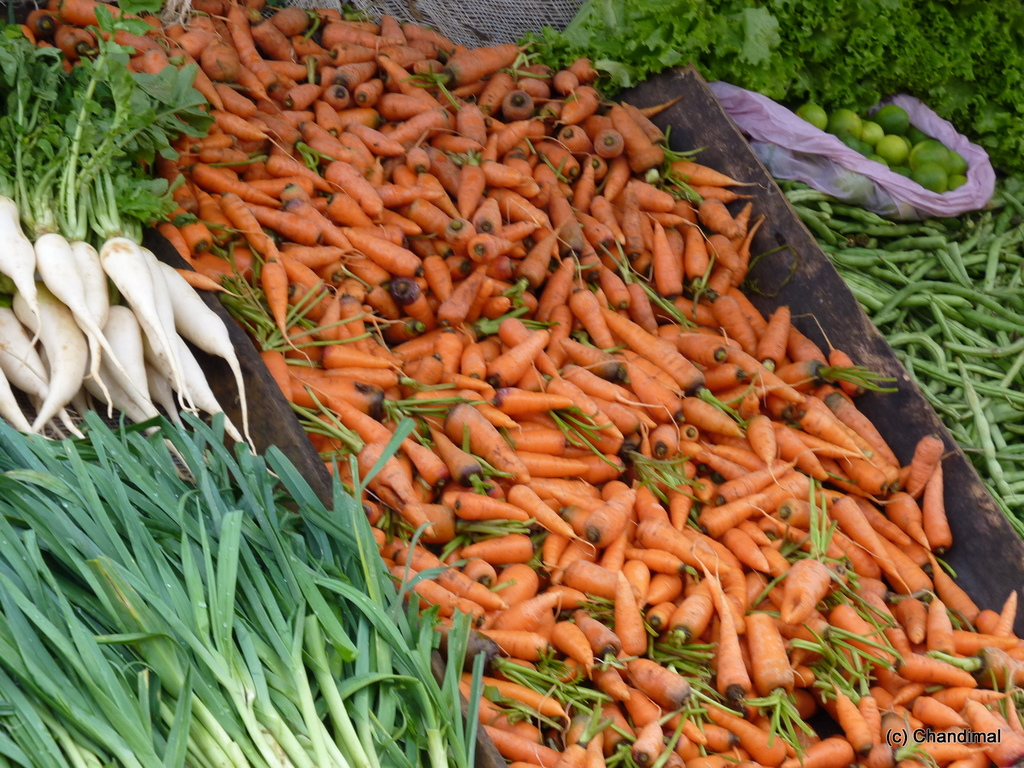Carrot: (15, 1, 1023, 767), (609, 568, 648, 656)
